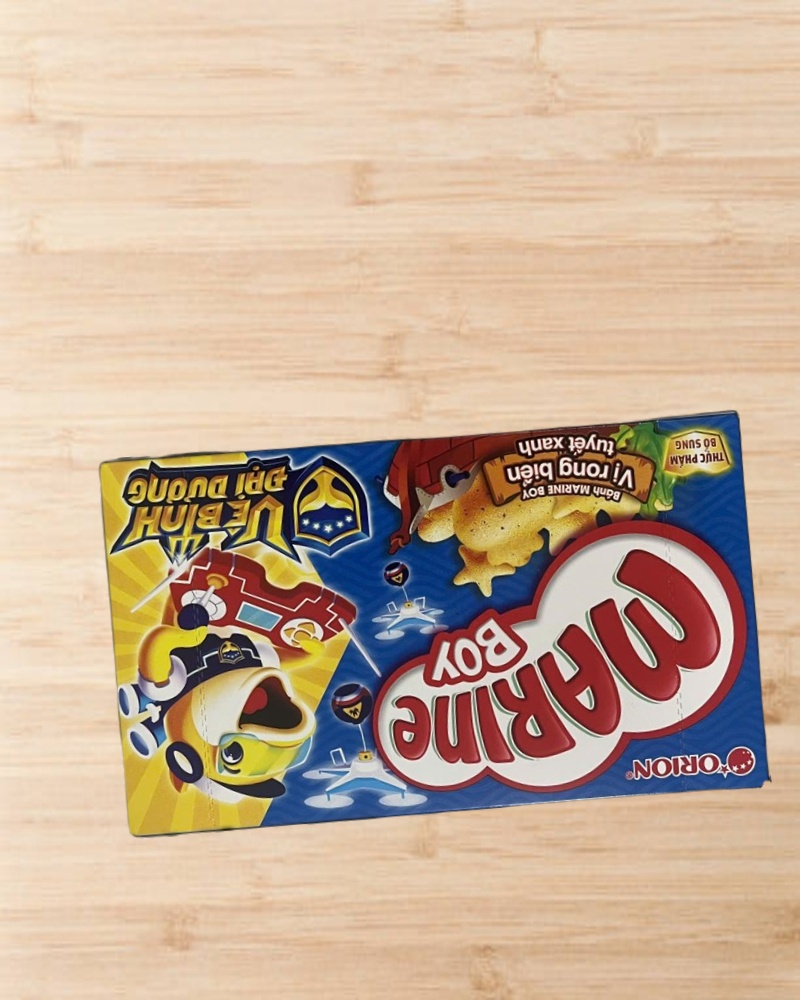Marine: (96, 406, 772, 843)
